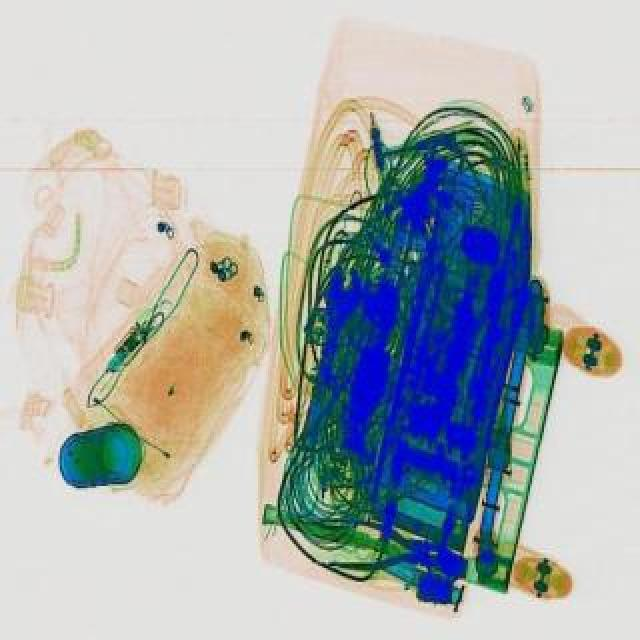scissors: (290, 264, 370, 450)
wrench: (320, 512, 446, 578)
